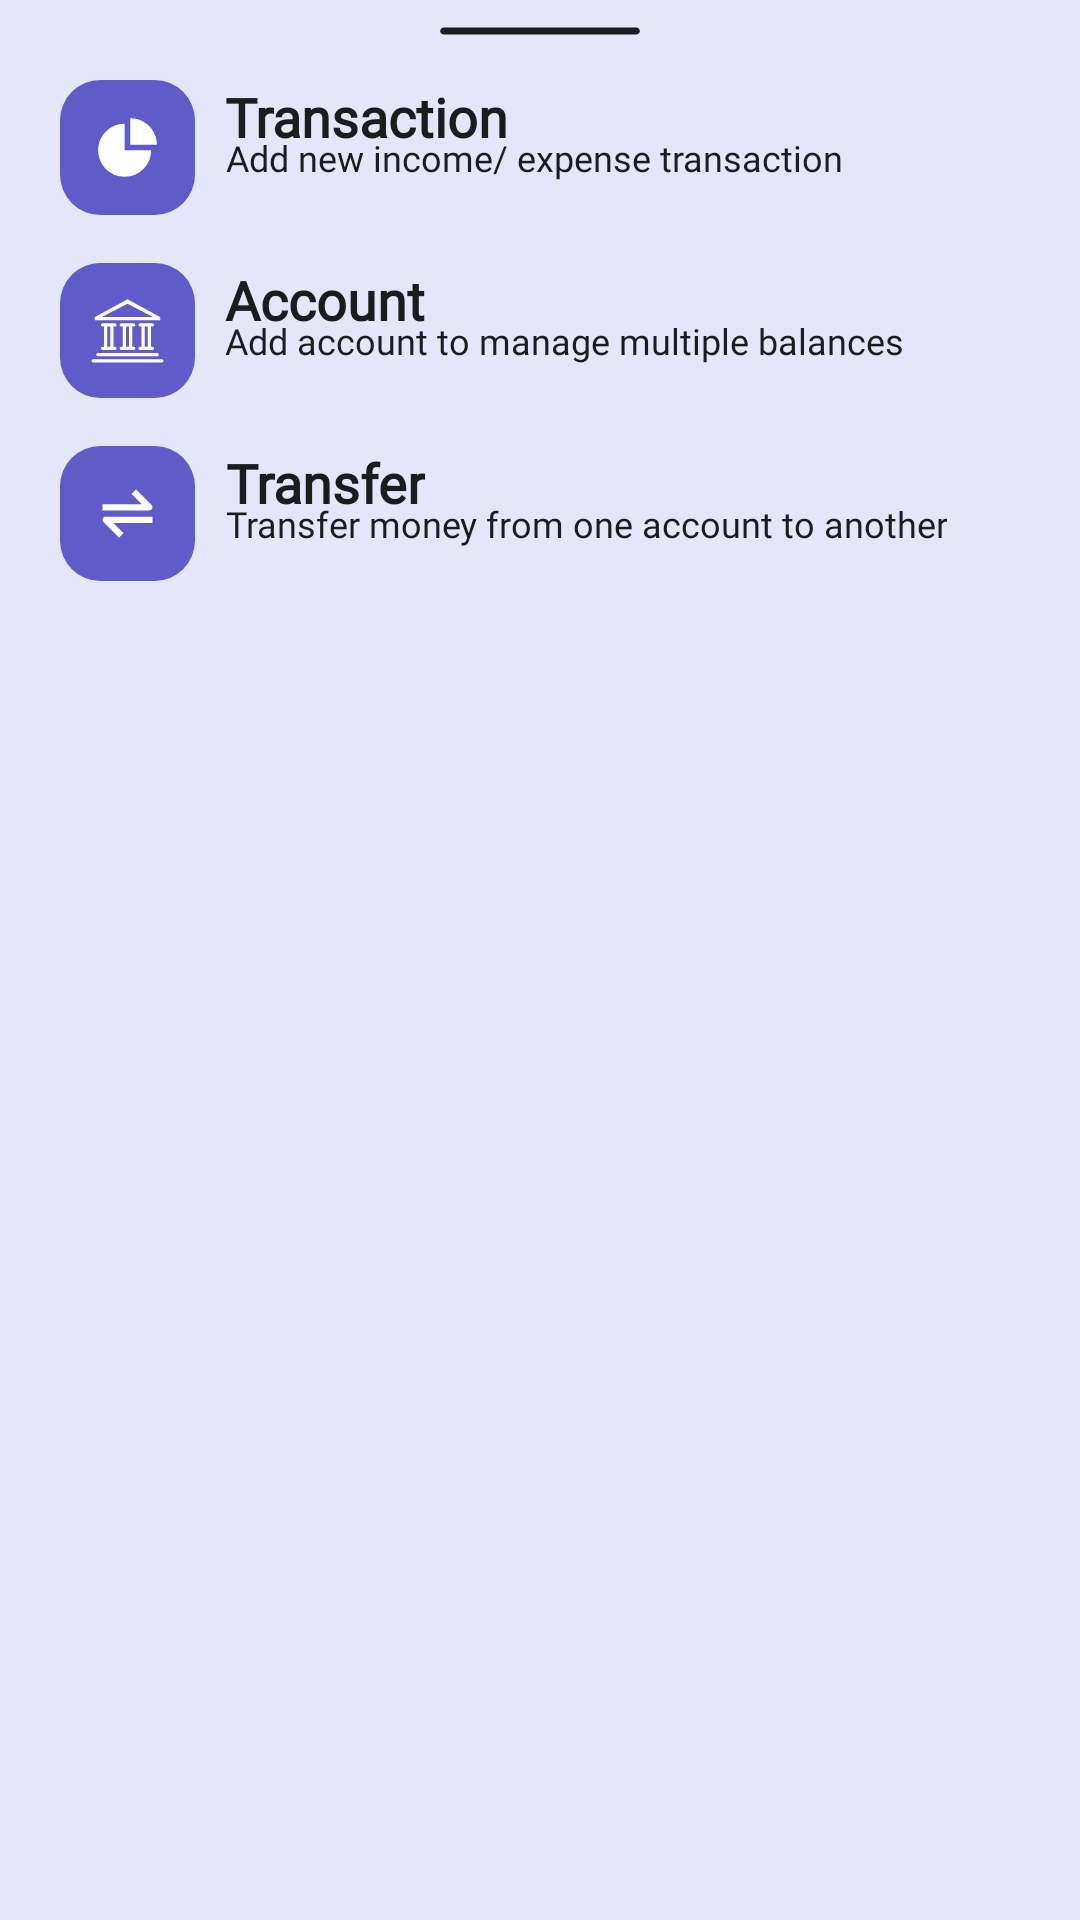

Point at icon controls on the screen. Image size 1080 × 1920, points as point (x, y).
bank: point (127, 330)
stats: point (127, 147)
